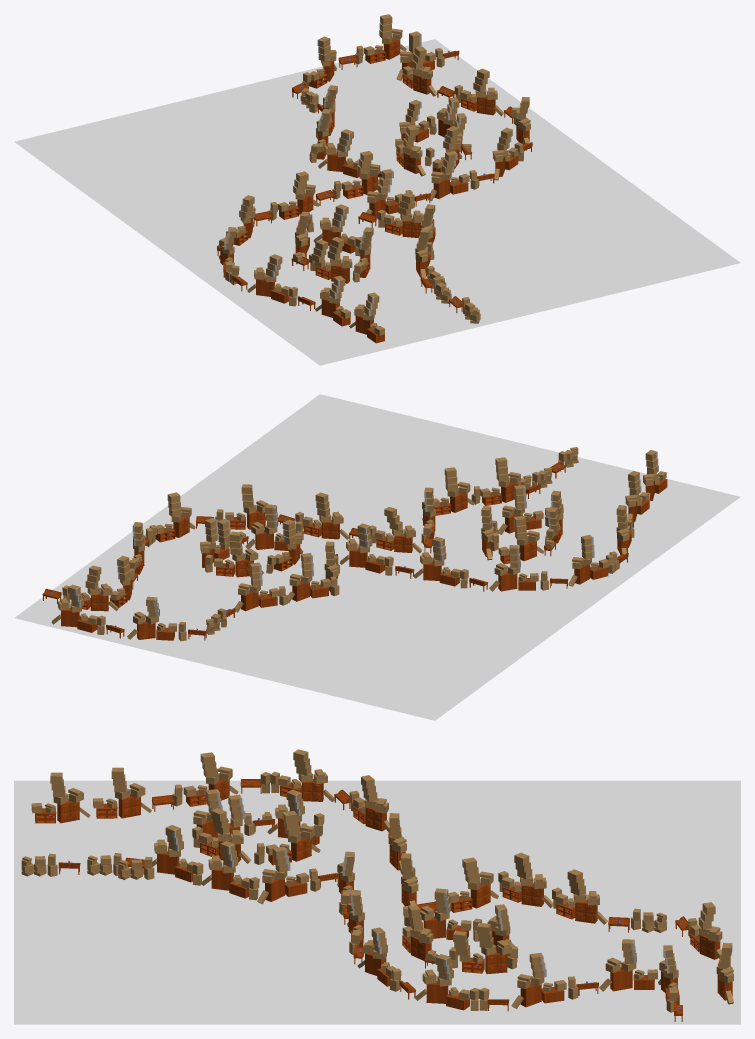
Rendered from room1.fbx.
The picture shows the model from 3 angles, top to bottom: view 1: azimuth 30°, elevation 25°; view 2: azimuth 150°, elevation 25°; view 3: azimuth 270°, elevation 25°; orthographic projection. The views are drawn at different scales.
Parts seen in each view (by area): view 1: Plane, caixa.003, caixa.002, caixa.001; view 2: Plane, caixa.002, caixa.003, caixa.001; view 3: Plane, caixa.002, caixa.001, caixa.003, caixa.004, caixa.296, caixa.194, caixa.066, caixa.092, caixa.234, caixa.196, caixa.206 (+5 smaller).
Boxes of the visible parts, box(x1,y1,x2,y2) form: Plane: box(14, 39, 740, 365); caixa.003: box(338, 14, 406, 69); caixa.002: box(292, 36, 336, 98); caixa.001: box(396, 31, 459, 80); Plane: box(14, 394, 740, 720); caixa.002: box(127, 596, 206, 641); caixa.003: box(51, 584, 124, 638); caixa.001: box(42, 565, 118, 611); Plane: box(14, 780, 740, 1024); caixa.002: box(675, 902, 722, 959); caixa.001: box(658, 945, 682, 1021); caixa.003: box(716, 942, 733, 1004); caixa.004: box(118, 856, 154, 879); caixa.296: box(21, 853, 57, 876); caixa.194: box(631, 908, 666, 932); caixa.066: box(87, 853, 121, 876); caixa.092: box(293, 749, 312, 782); caixa.234: box(435, 954, 453, 986); caixa.196: box(567, 869, 586, 902); caixa.206: box(514, 852, 532, 885).
Bounding box in the file's own units: 5558 × 561 × 6996.
Materials: 8 (5 with a texture image).
